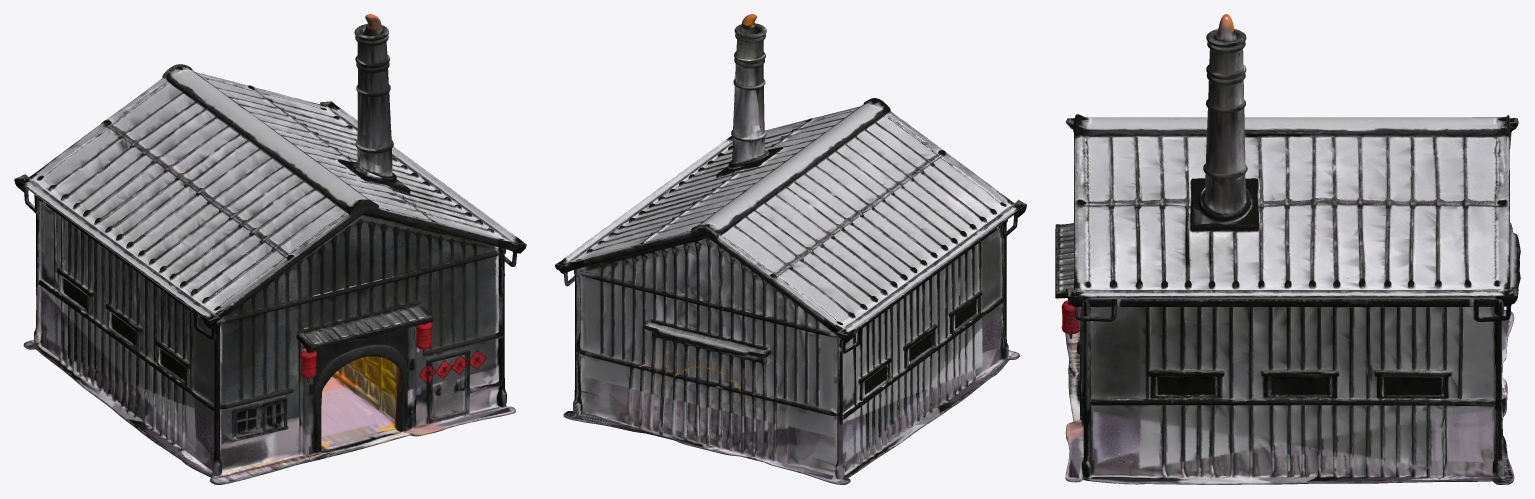
Rendered from forge.glb.
The picture shows the model from 3 angles, left to right: view 1: azimuth 30°, elevation 25°; view 2: azimuth 150°, elevation 25°; view 3: azimuth 270°, elevation 25°; orthographic projection. The views are drawn at different scales.
Parts seen in each view (by area): view 1: Mesh_0; view 2: Mesh_0; view 3: Mesh_0.
Part boxes in pixels (x1,y1,x2,y2): Mesh_0: (14,14,526,484); Mesh_0: (555,14,1026,484); Mesh_0: (1055,14,1520,484).
Size of the model in its own units: 2.72 by 3 by 2.99.
Materials: 1 (1 with a texture image).
